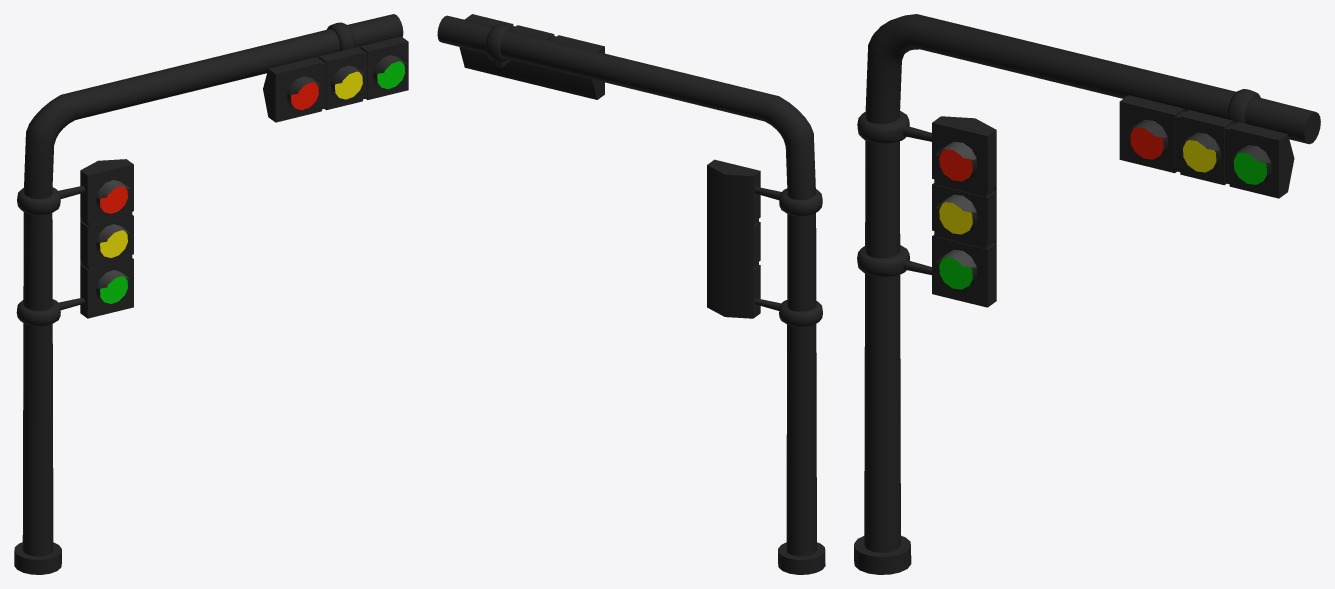
Rendered from TraficLight#3.fbx.
3 views of the same model, side by side, from view 1: azimuth 30°, elevation 25°; view 2: azimuth 150°, elevation 25°; view 3: azimuth 330°, elevation 25° (orthographic). The views are drawn at different scales.
Parts seen in each view (by area): view 1: Plane; view 2: Plane; view 3: Plane.
Part boxes in pixels (<box>): Plane: <box>14,14,408,574</box>; Plane: <box>437,14,825,574</box>; Plane: <box>854,14,1320,574</box>.
Bounding box in the file's own units: 743 × 874 × 137.
1 material, 1 textured.
